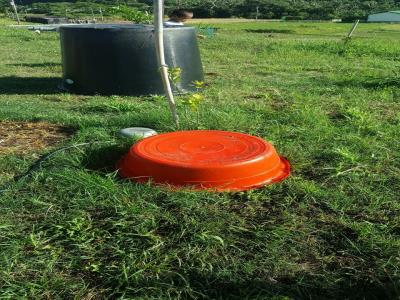bowl: (112, 127, 294, 195)
bucket: (56, 18, 209, 101)
